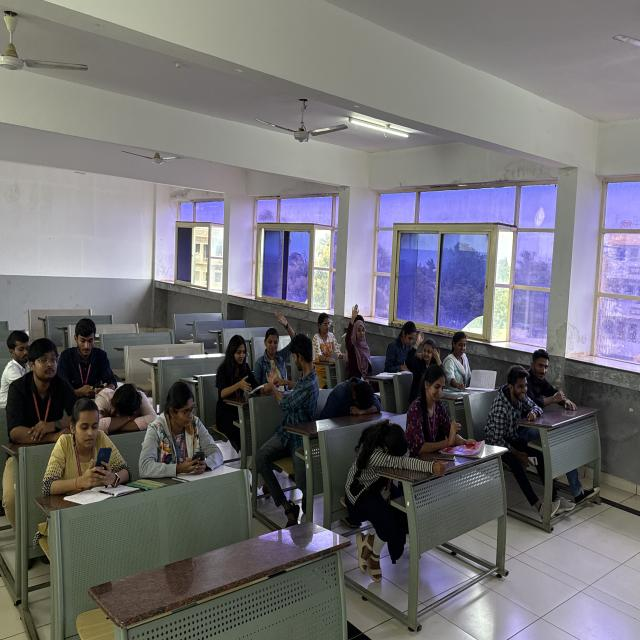Hand Rising: (258, 307, 297, 379), (344, 304, 372, 377), (410, 328, 446, 375)
Reading: (386, 318, 419, 376)
Sleeping: (348, 417, 418, 491), (92, 384, 160, 436), (327, 377, 383, 423)
Using Phone: (141, 381, 224, 480), (44, 400, 124, 494), (59, 314, 118, 394)
